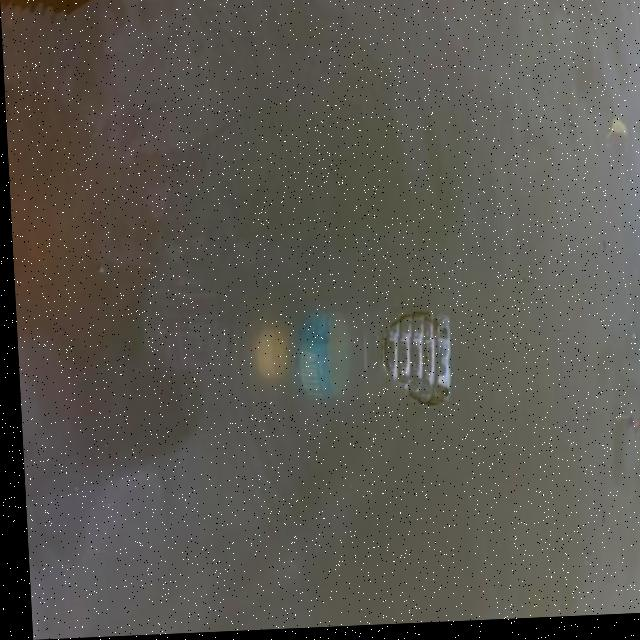waterbottle: (216, 280, 467, 447)
